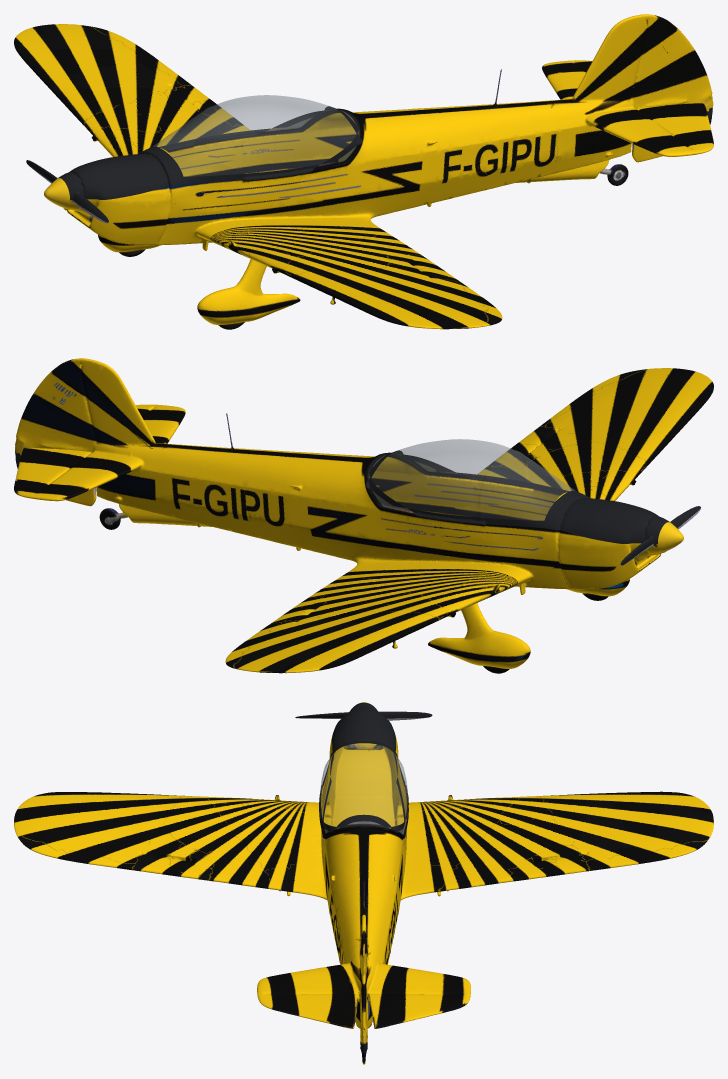
The model's file is cap10.glb.
The picture shows the model from 3 angles, top to bottom: view 1: azimuth 30°, elevation 25°; view 2: azimuth 150°, elevation 25°; view 3: azimuth 270°, elevation 25°; orthographic projection. The views are drawn at different scales.
Parts seen in each view (by area): view 1: mesh_node; view 2: mesh_node; view 3: mesh_node.
Part boxes in pixels (bbox=[...]): mesh_node: bbox=[14, 14, 713, 329]; mesh_node: bbox=[14, 358, 713, 673]; mesh_node: bbox=[14, 702, 713, 1064].
Bounding box in the file's own units: 1.77 × 0.4384 × 1.9.
Materials: 4 (1 with a texture image).
